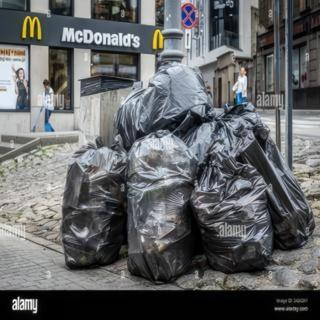Garbage: (234, 114, 315, 251), (126, 129, 194, 282), (192, 149, 270, 272), (60, 136, 128, 270), (114, 62, 211, 132)
